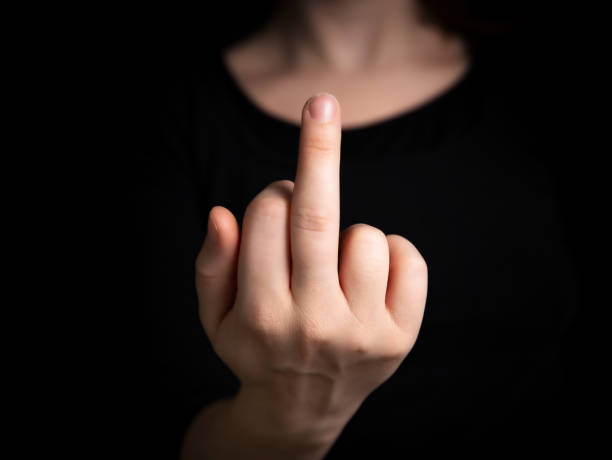insulting_gesture: (193, 89, 427, 411)
